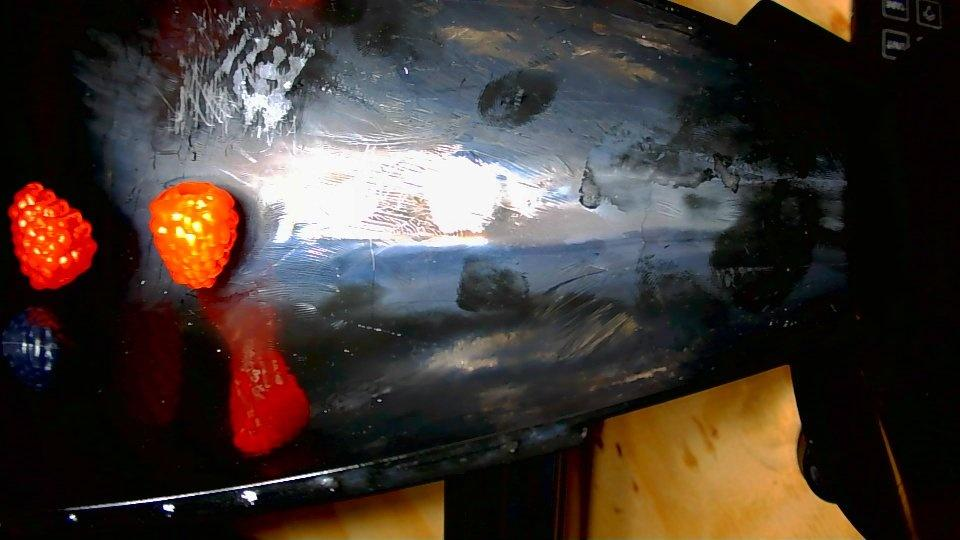berry: (7, 182, 97, 288), (149, 181, 238, 288), (0, 307, 59, 388)
